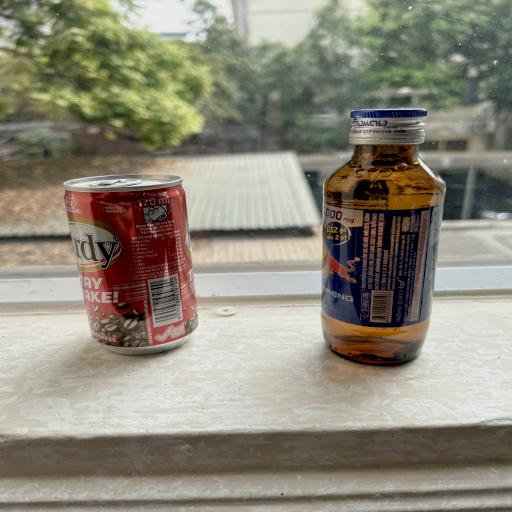birdy: (61, 172, 203, 355)
bo_huc: (320, 105, 447, 368)
